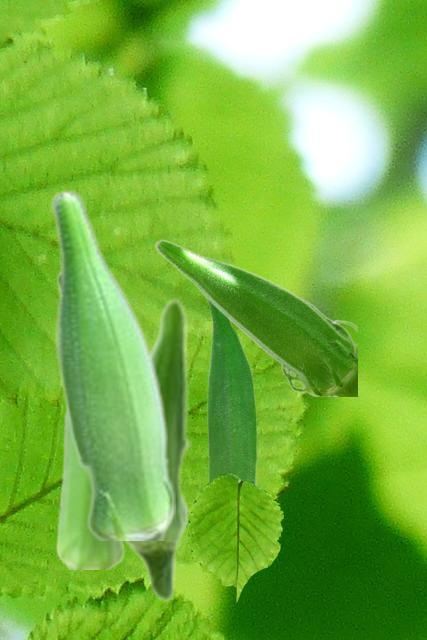okra: (49, 189, 174, 539), (154, 239, 356, 395), (55, 272, 125, 568), (124, 297, 190, 602), (205, 299, 256, 485)
